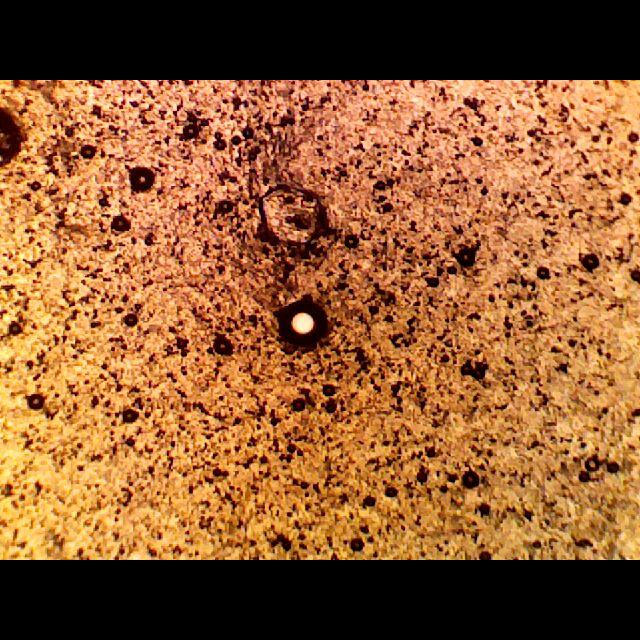microbeads: (272, 296, 332, 349)
